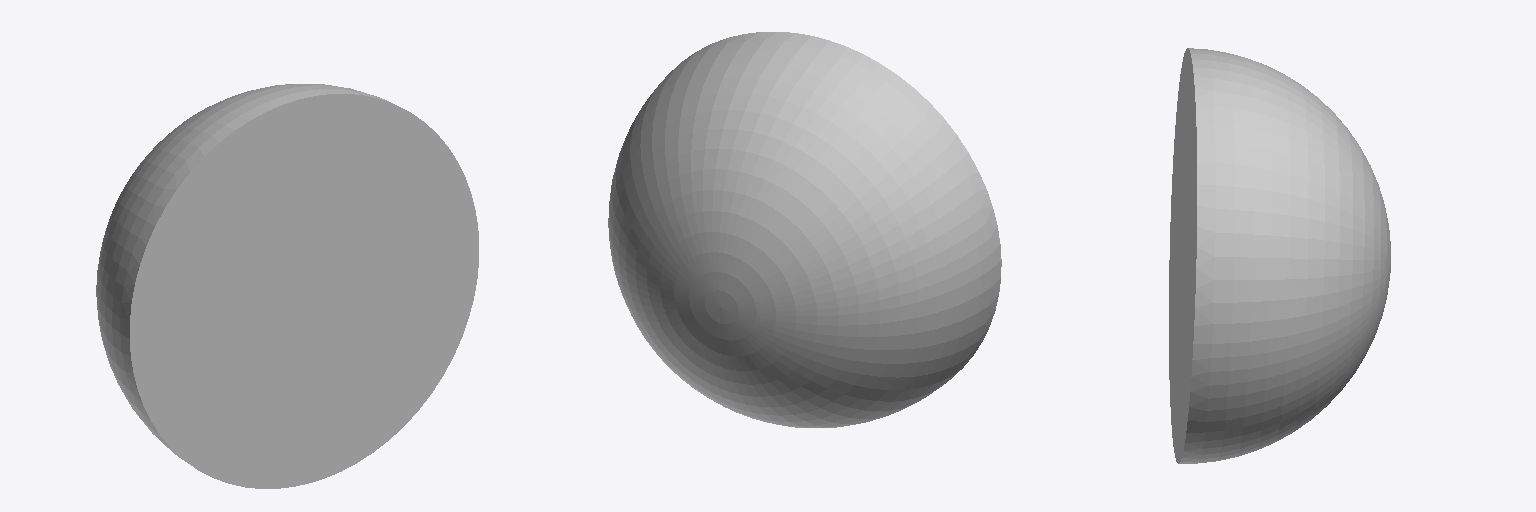
Rendered from toe_left_front.obj.
The picture shows the model from 3 angles: view 1: azimuth 30°, elevation 25°; view 2: azimuth 150°, elevation 25°; view 3: azimuth 270°, elevation 25°; orthographic projection.
Parts seen in each view (by area): view 1: Body1.102_Body1.037; view 2: Body1.102_Body1.037; view 3: Body1.102_Body1.037.
Boxes of the visible parts, <box> form: Body1.102_Body1.037: <box>96,84,478,488</box>; Body1.102_Body1.037: <box>608,32,1001,427</box>; Body1.102_Body1.037: <box>1169,48,1390,463</box>.
Bounding box in the file's own units: 0.019 × 0.019 × 0.0102.